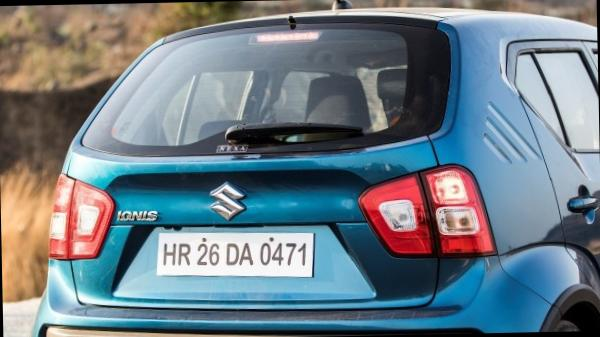plate: (163, 226, 314, 276)
